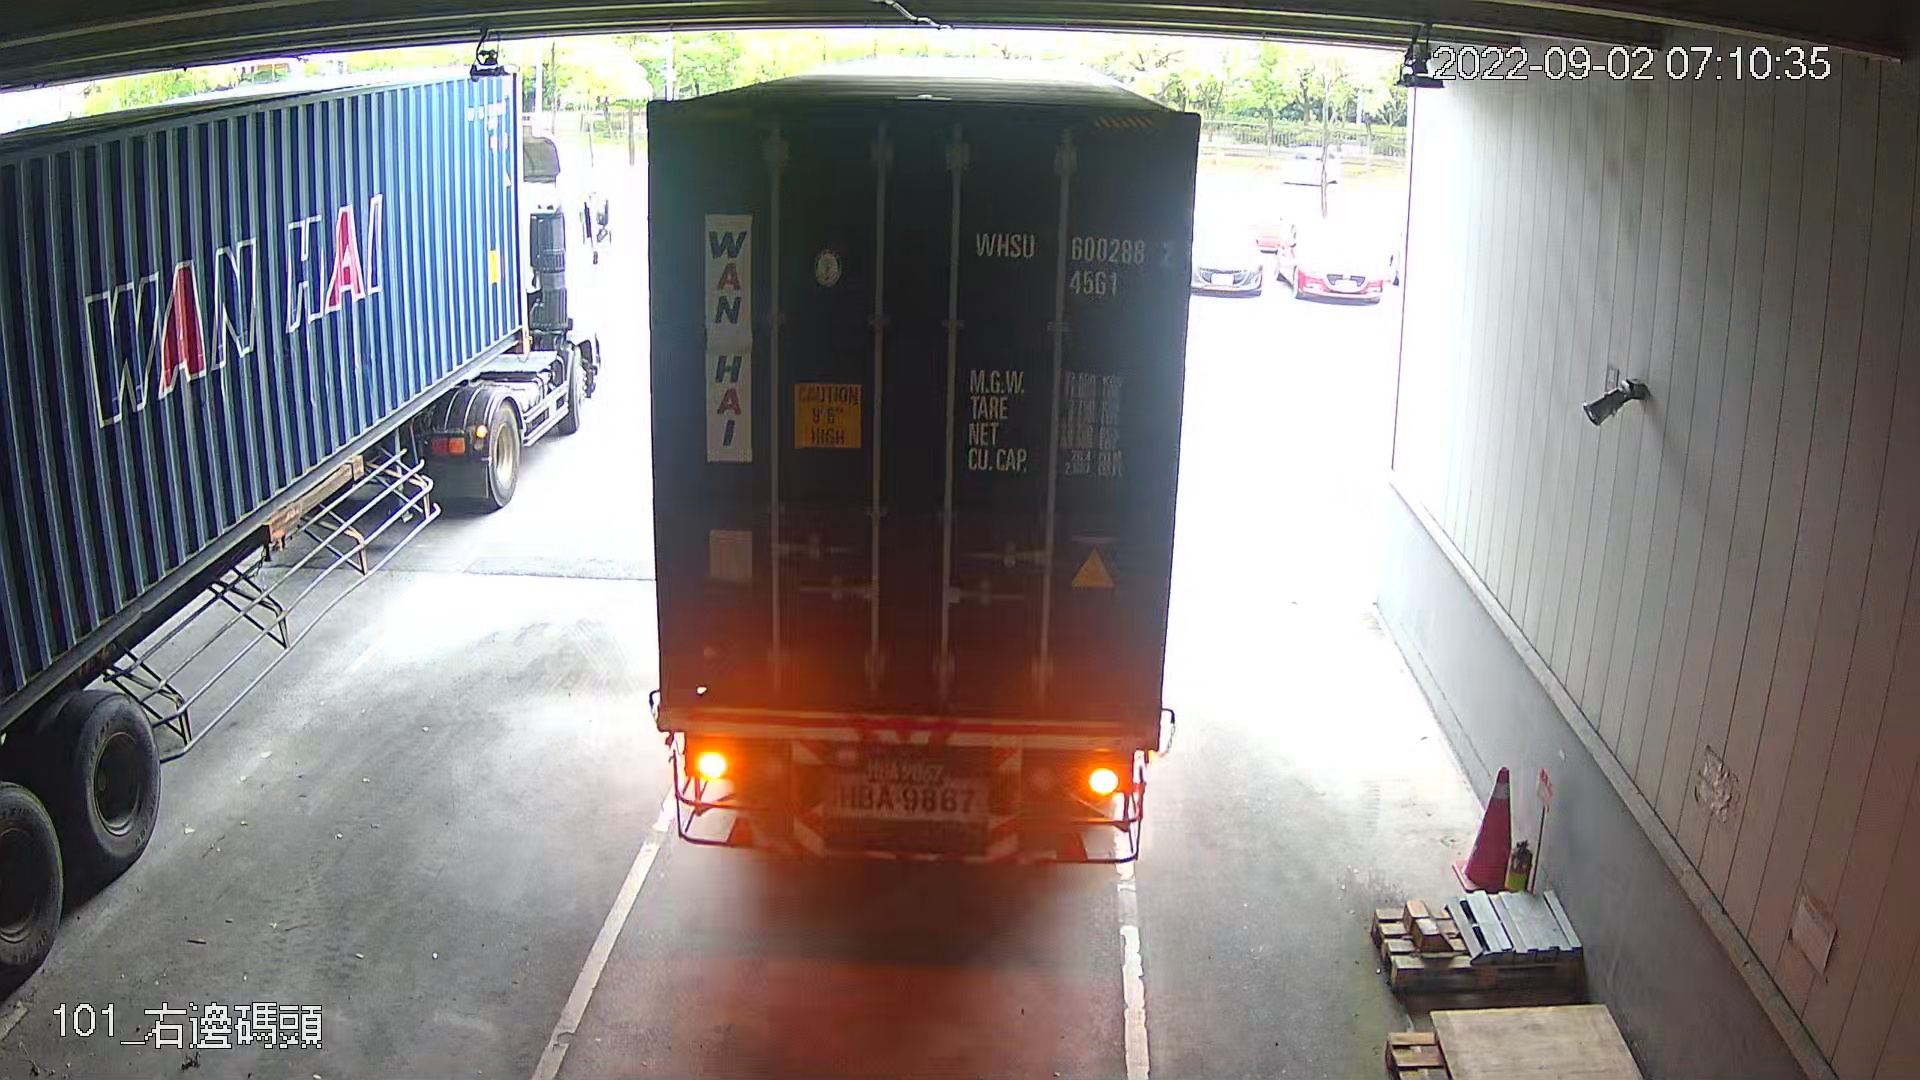container: (967, 216, 1178, 305)
